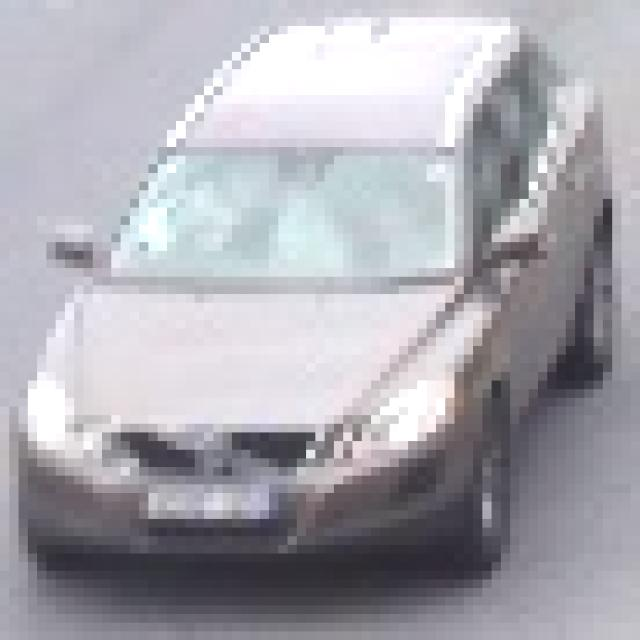SUV: (38, 36, 573, 575)
